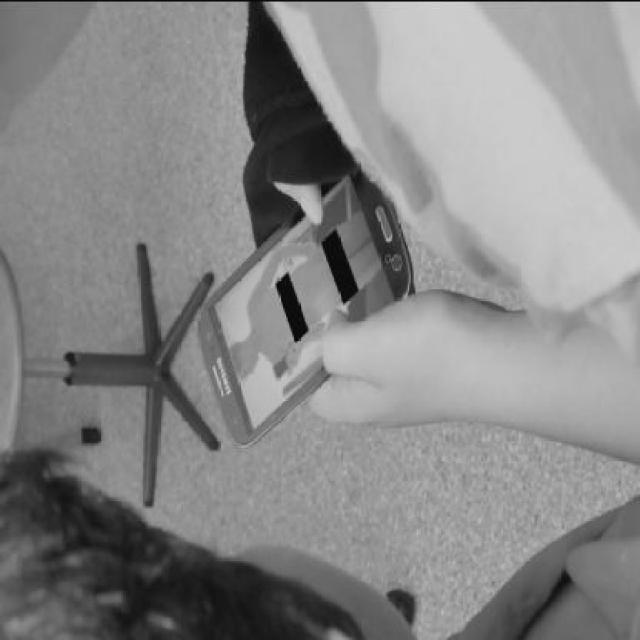fake: (192, 164, 417, 441)
